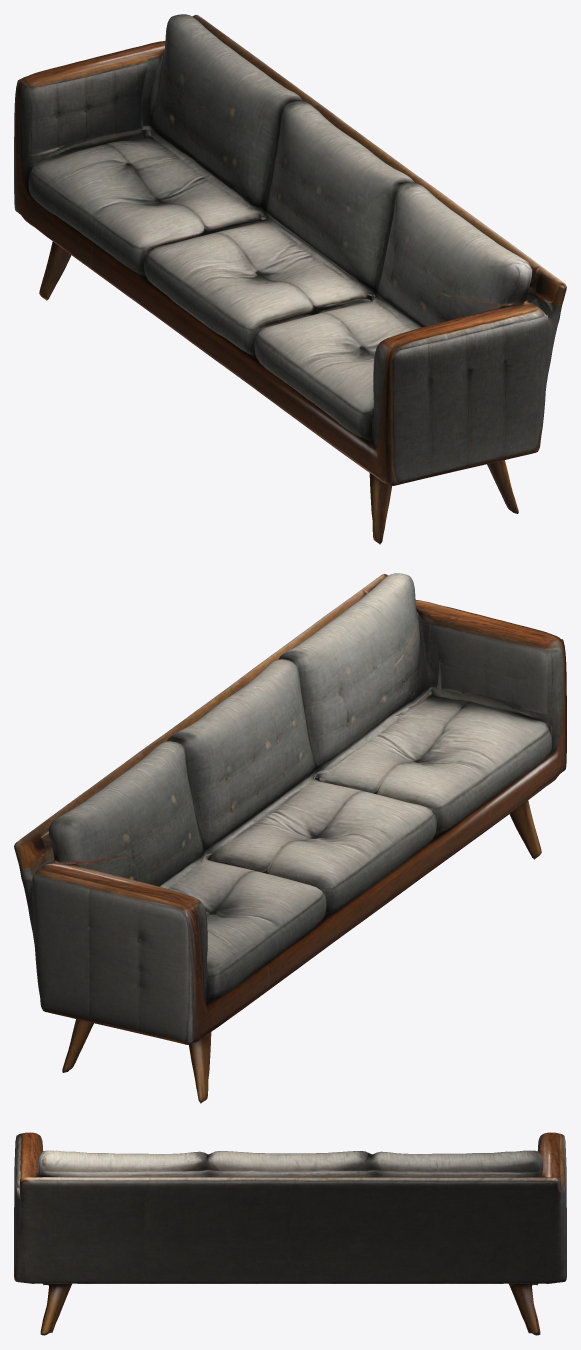
Rendered from sofa.glb.
The picture shows the model from 3 angles, top to bottom: view 1: azimuth 30°, elevation 25°; view 2: azimuth 150°, elevation 25°; view 3: azimuth 270°, elevation 25°; orthographic projection. The views are drawn at different scales.
Size of the model in its own units: 0.5853 by 0.7282 by 2.
1 material, 1 textured.
